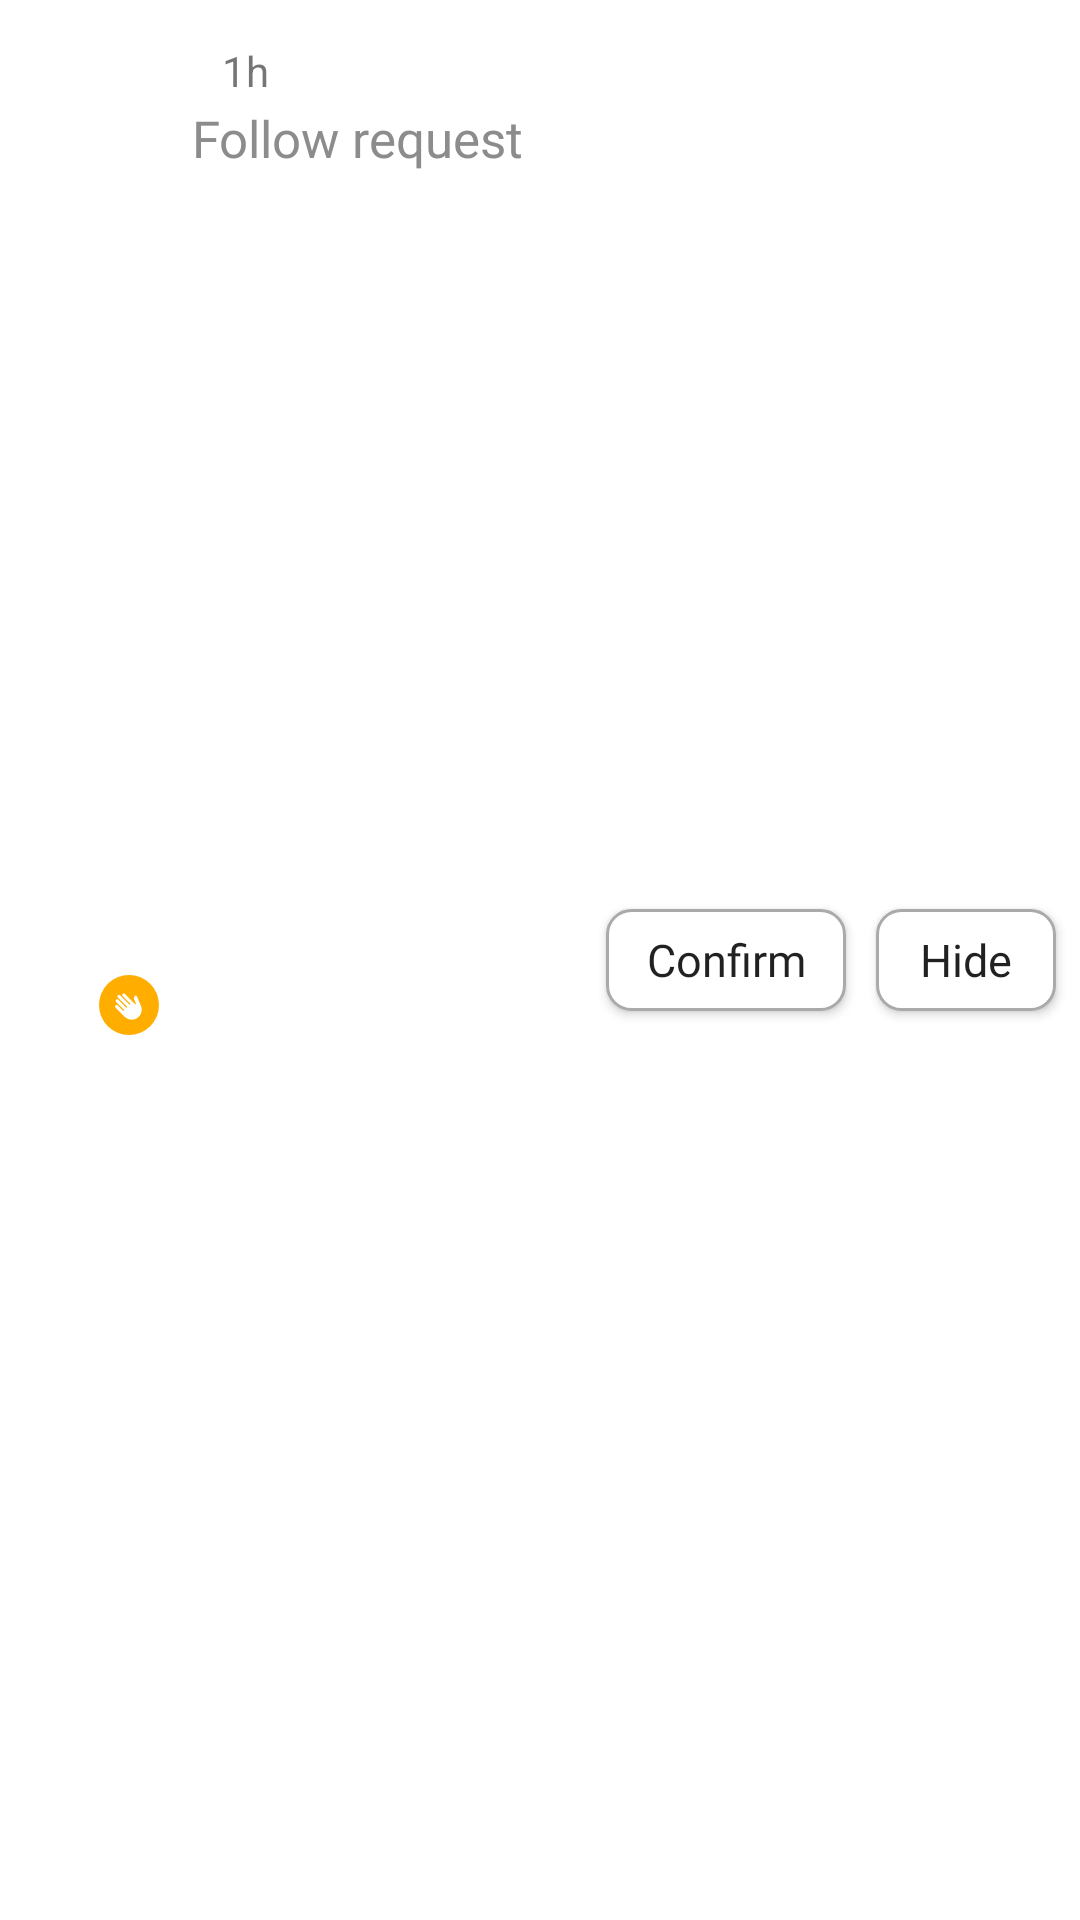

Locate icon controls on the screen. Image size 1080×1920, boxes as (x1, y1, x2, y2).
request: (99, 975, 159, 1035)
